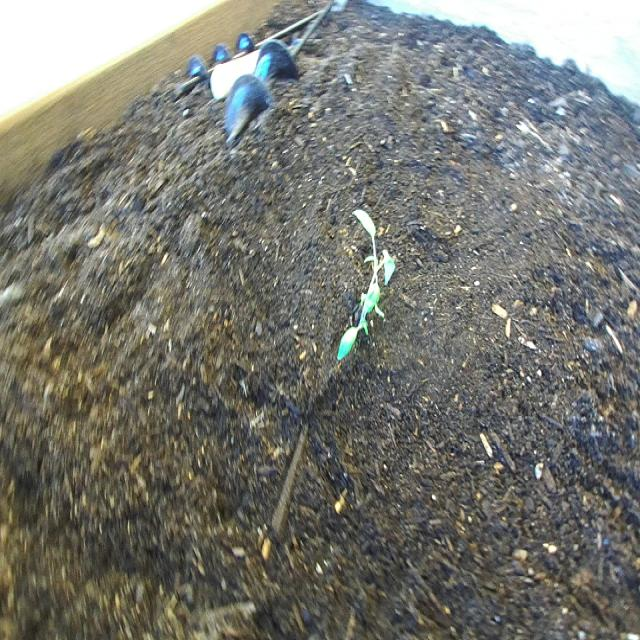Healthy: (333, 204, 398, 368)
